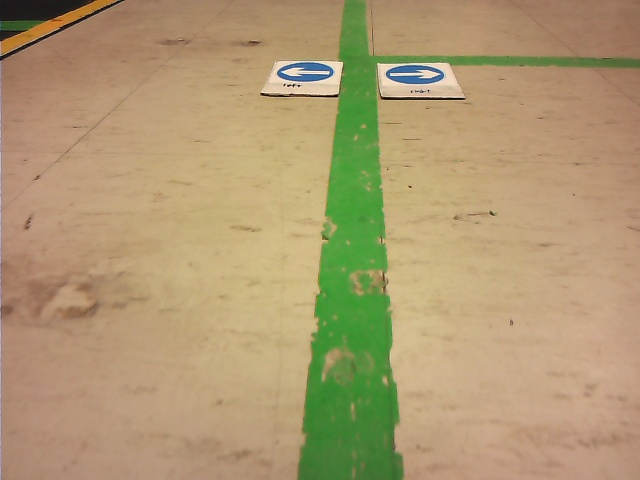TURN LEFT: (276, 62, 337, 81)
TURN RIGHT: (387, 64, 444, 83)
